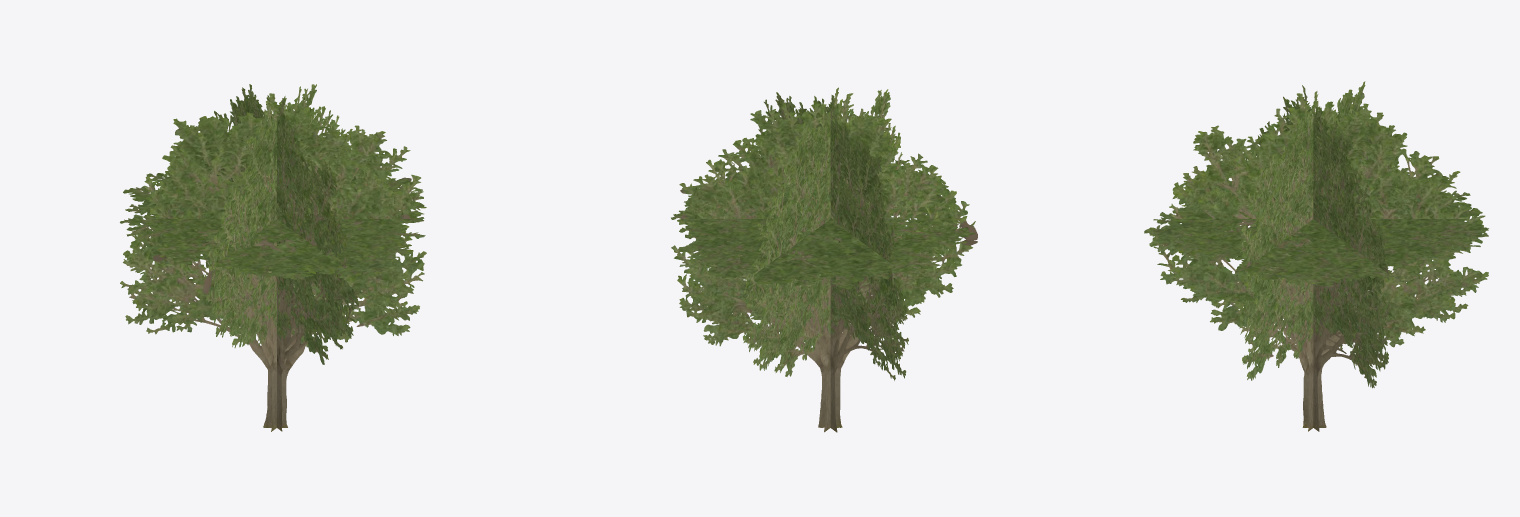
The model's file is plant_sidr_far.glb.
The picture shows the model from 3 angles, left to right: view 1: azimuth 30°, elevation 25°; view 2: azimuth 150°, elevation 25°; view 3: azimuth 270°, elevation 25°; orthographic projection.
Parts seen in each view (by area): view 1: leaf_sidr_far; view 2: leaf_sidr_far; view 3: leaf_sidr_far.
Boxes of the visible parts, x1,y1,x2,y2 form: leaf_sidr_far: (120,84,426,431); leaf_sidr_far: (671,87,977,432); leaf_sidr_far: (1144,81,1488,431).
Size of the model in its own units: 6.3 by 6.3 by 6.3.
Materials: 1 (1 with a texture image).
